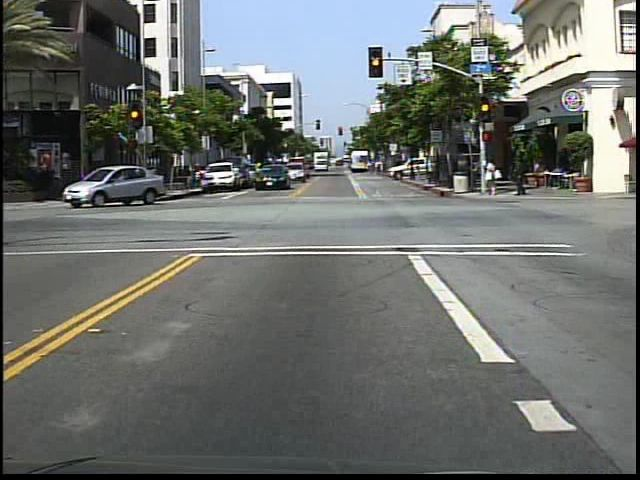person: (481, 155, 502, 201), (512, 153, 530, 197), (120, 164, 138, 202)
